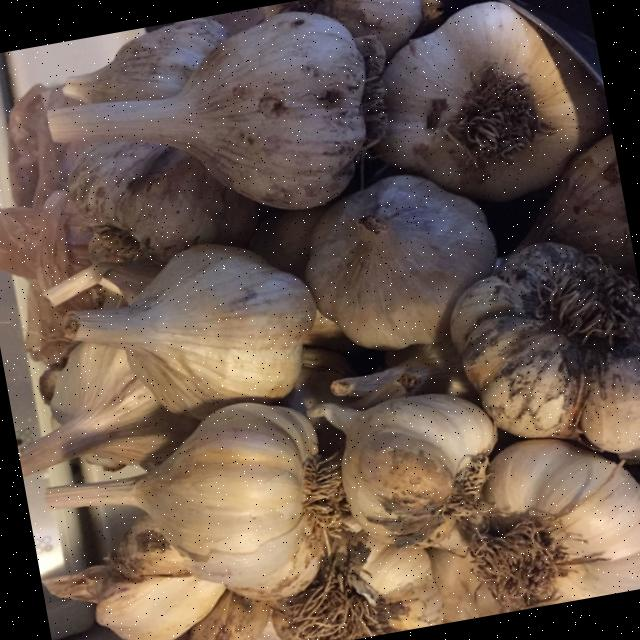garlic: (47, 12, 364, 208), (44, 403, 316, 589), (374, 1, 607, 200), (65, 244, 315, 419), (449, 242, 640, 453), (305, 175, 495, 349), (469, 439, 640, 609), (306, 394, 495, 546)
